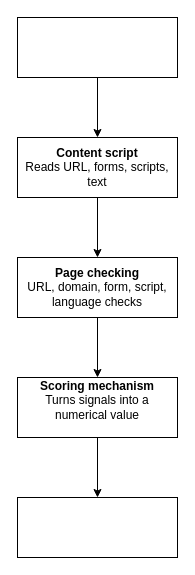
This 195x575 diagram has some shape labels left out. The shapes that lost their labels are listed below. From the top down, each one's centre as x and y in pixels, then its label:
At point 97,47: "Webpage Live DOM, URL and page script".
At point 97,527: "Popup UI".
